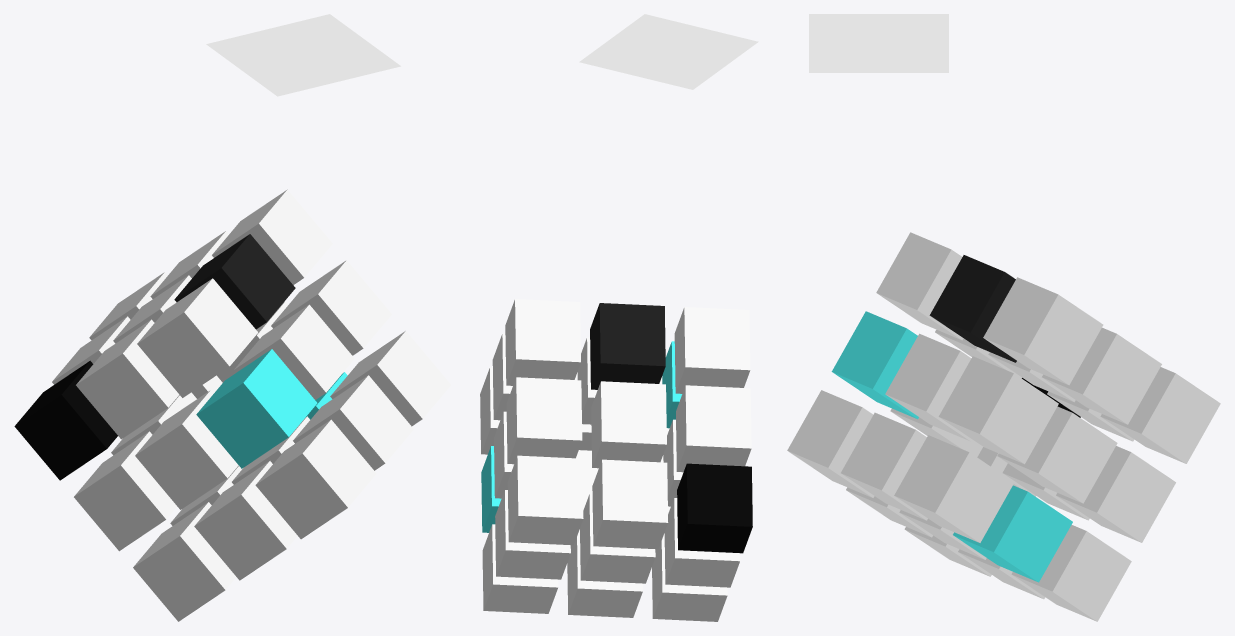
Rendered from cubes.obj.
The picture shows the model from 3 angles, left to right: view 1: azimuth 30°, elevation 25°; view 2: azimuth 150°, elevation 25°; view 3: azimuth 270°, elevation 25°; orthographic projection. The views are drawn at different scales.
Visible parts, largest first — view 1: Light, Cube12, Cube3, Cube20, Cube17, Cube25, Cube9, Cube24, Cube8, Cube16, Cube2, Cube10 (+12 smaller); view 2: Light, Cube25, Cube23, Cube26, Cube21, Cube18, Cube19, Cube24, Cube20, Cube22, Cube7, Cube15 (+12 smaller); view 3: Light, Cube19, Cube11, Cube2, Cube14, Cube6, Cube7, Cube22, Cube23, Cube15, Cube1, Cube20 (+13 smaller).
Part boxes in pixels (box(x1,y1,x2,y2)): Light: box(206, 14, 400, 96); Cube12: box(196, 349, 317, 468); Cube3: box(255, 419, 376, 539); Cube20: box(137, 278, 257, 397); Cube17: box(74, 431, 177, 551); Cube25: box(14, 360, 117, 480); Cube9: box(133, 502, 236, 621); Cube24: box(76, 319, 179, 439); Cube8: box(194, 461, 297, 580); Cube16: box(135, 390, 238, 509); Cube2: box(330, 331, 450, 426); Cube10: box(233, 304, 354, 399); Light: box(579, 14, 758, 89); Cube25: box(677, 463, 752, 553); Cube23: box(507, 455, 583, 545); Cube26: box(592, 459, 668, 549); Cube21: box(591, 381, 666, 468); Cube18: box(590, 303, 665, 389); Cube19: box(505, 299, 580, 385); Cube24: box(676, 385, 751, 472); Cube20: box(674, 307, 750, 393); Cube22: box(506, 377, 582, 464); Cube7: box(482, 524, 558, 613); Cube15: box(495, 490, 570, 579); Light: box(809, 14, 948, 72); Cube19: box(983, 277, 1103, 385); Cube11: box(938, 356, 1058, 464); Cube2: box(894, 435, 1014, 542); Cube14: box(997, 406, 1117, 503); Cube6: box(953, 485, 1072, 582); Cube7: box(1011, 525, 1131, 621); Cube22: box(1042, 327, 1161, 424); Cube23: box(1100, 367, 1220, 463); Cube15: box(1056, 446, 1175, 542); Cube1: box(841, 412, 927, 520); Cube20: box(876, 232, 963, 340).
Size of what is drawn, in the model's own units: 59.17 by 88.08 by 61.97.
